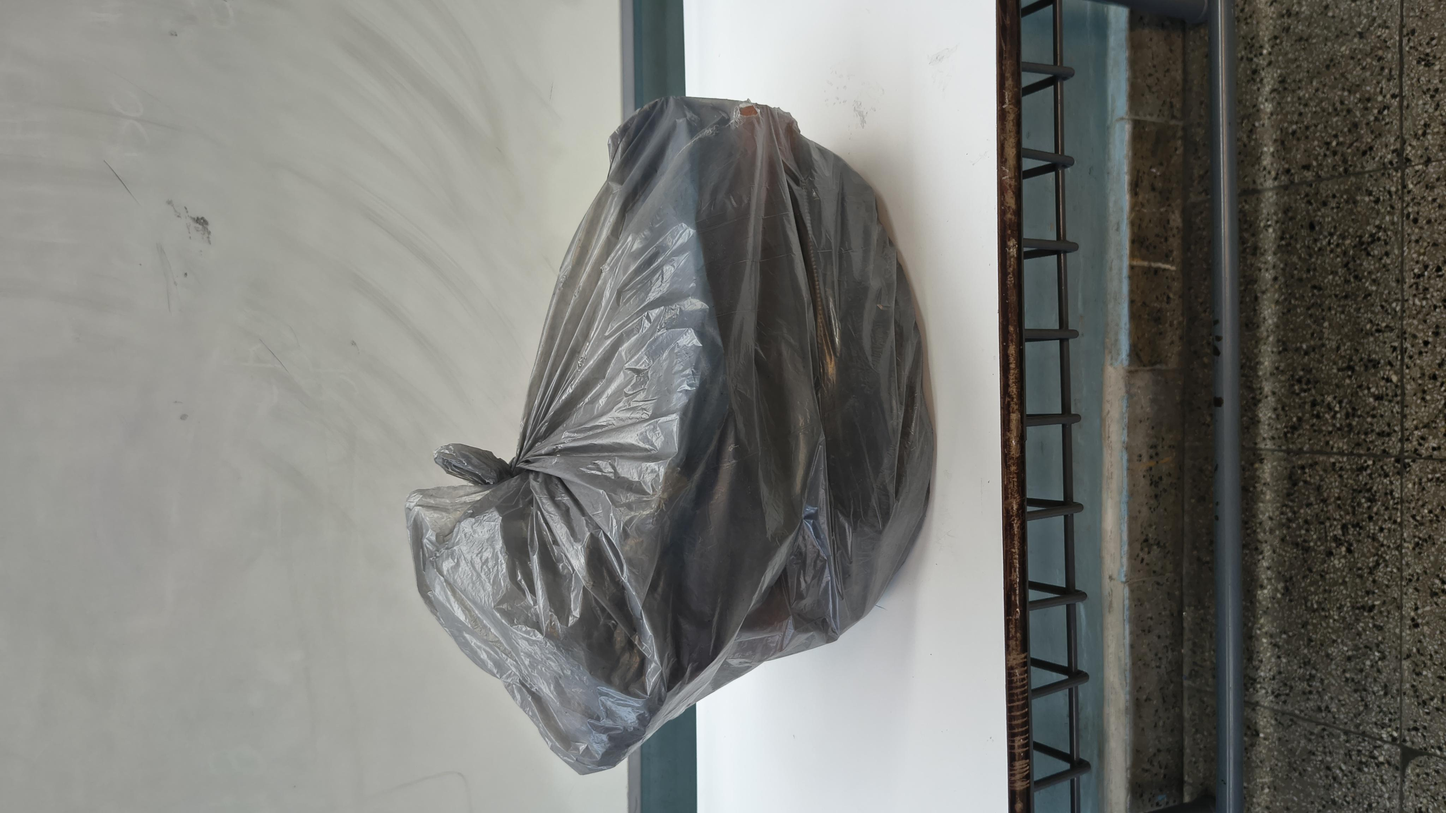Garbage: (69, 206, 1406, 566)
